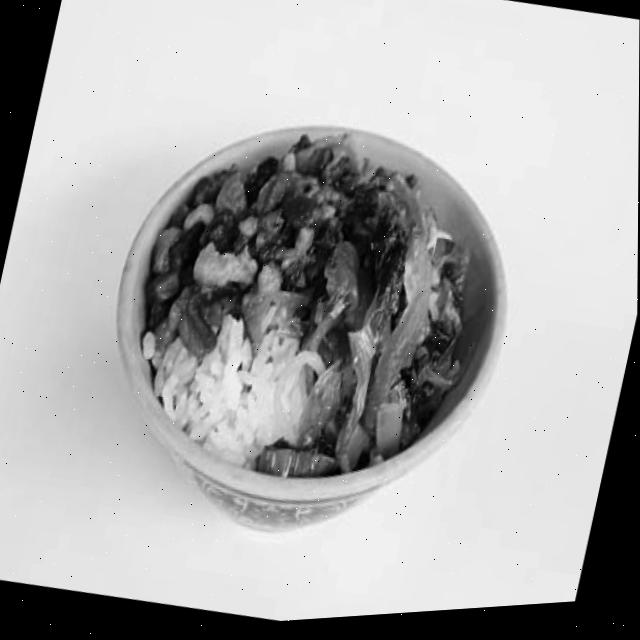猪肉菜式: (102, 101, 489, 536)
